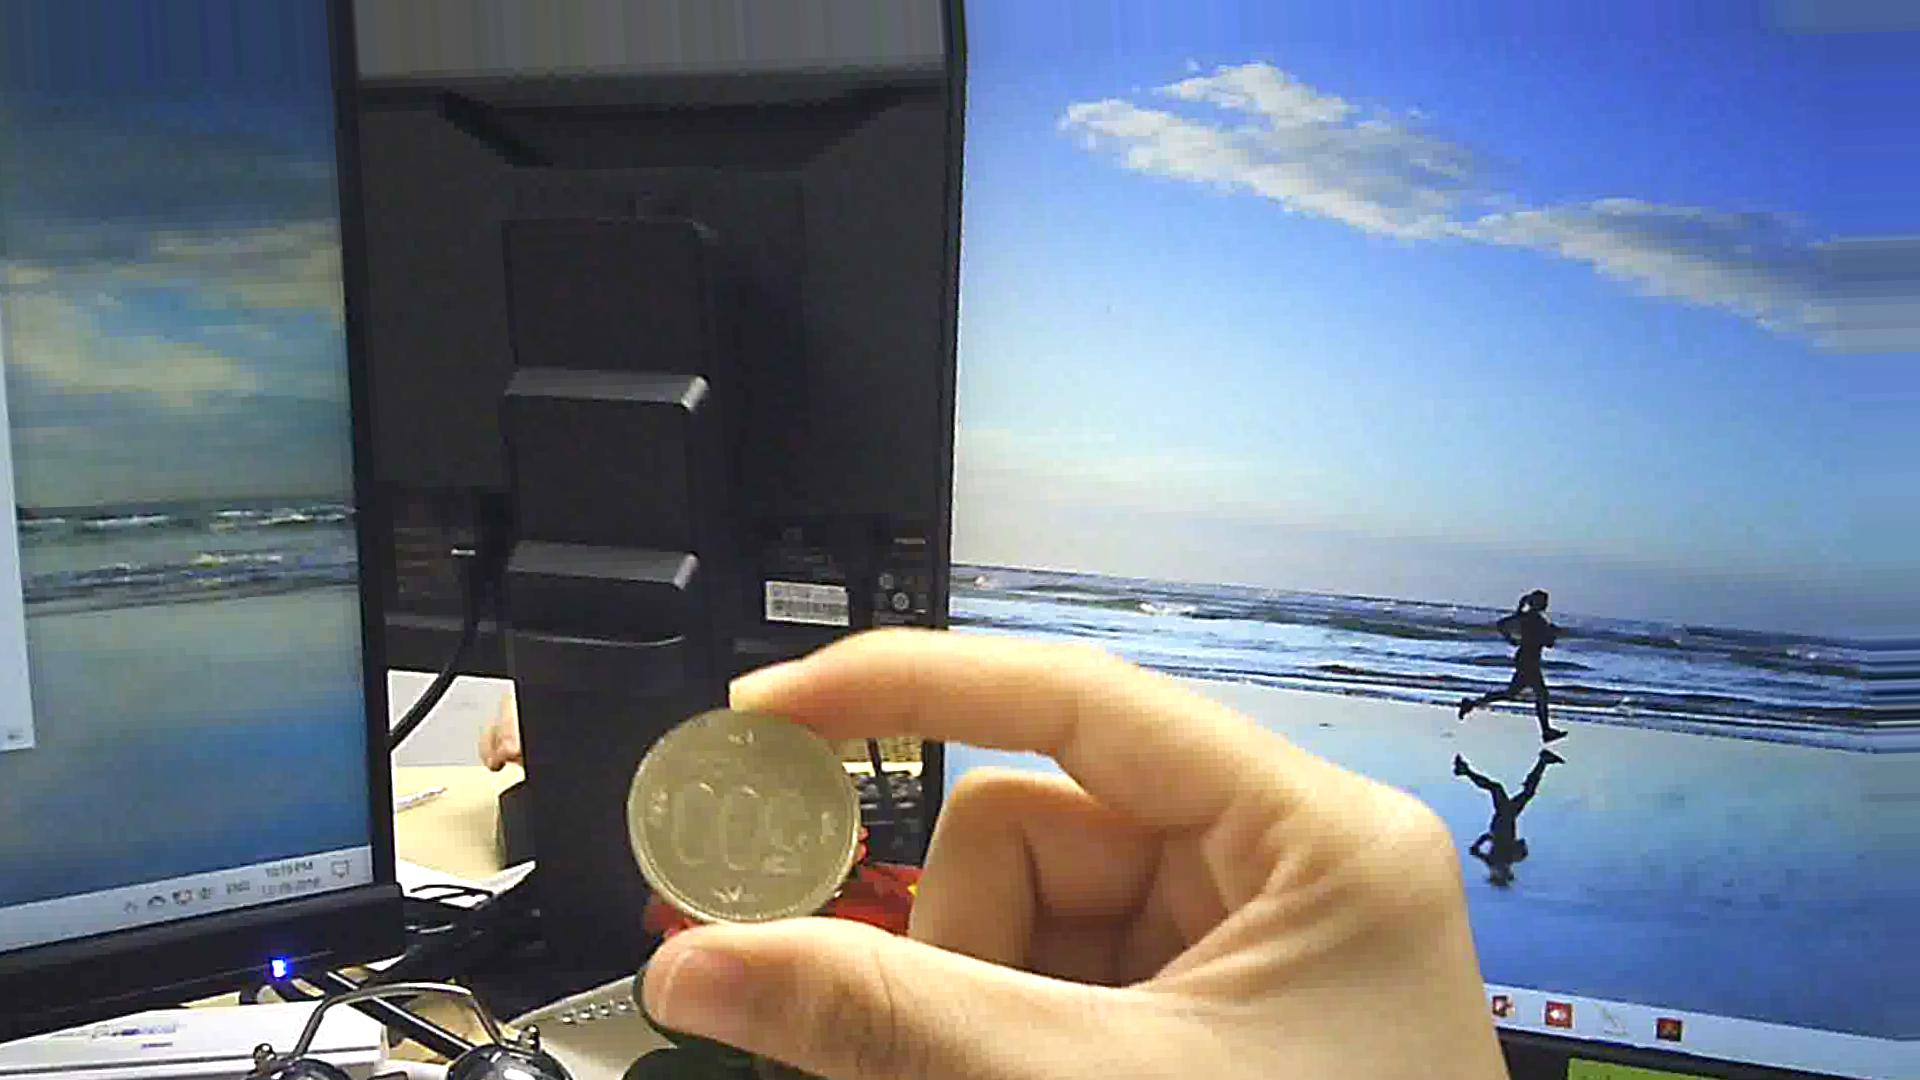500 Yen: (626, 709, 861, 934)
